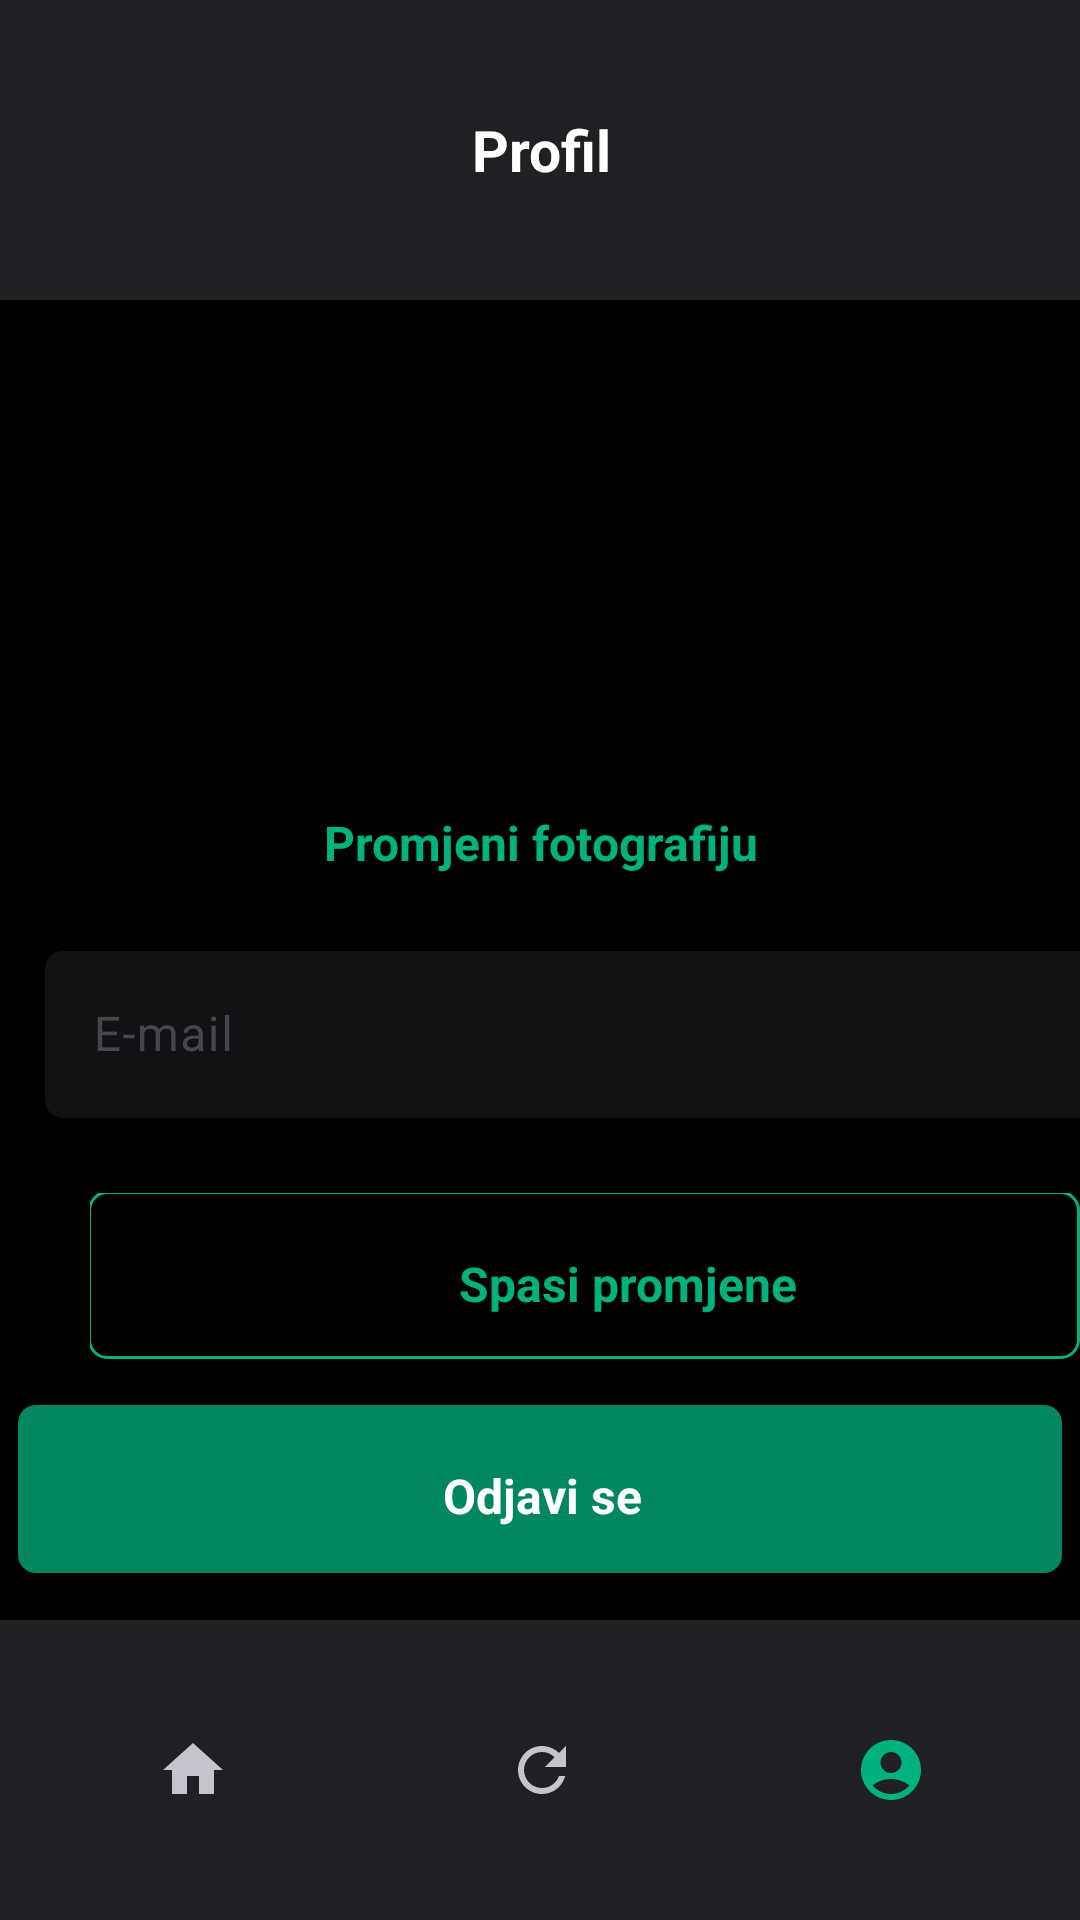

Where icons sit on this 1080×1920 app screen, as (x1, y1, x2, y2):
account: (861, 1740, 921, 1800)
home: (163, 1743, 223, 1794)
refresh: (518, 1746, 566, 1794)
